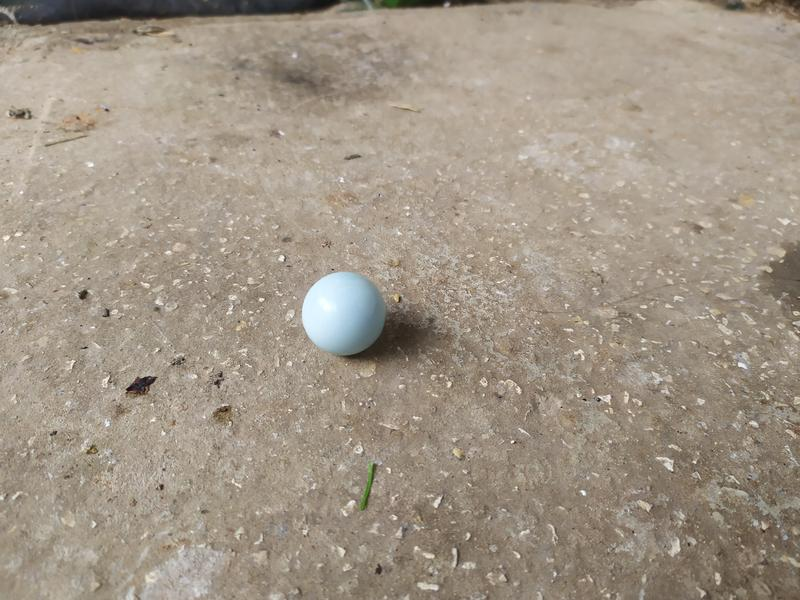Warning: (299, 269, 389, 359)
